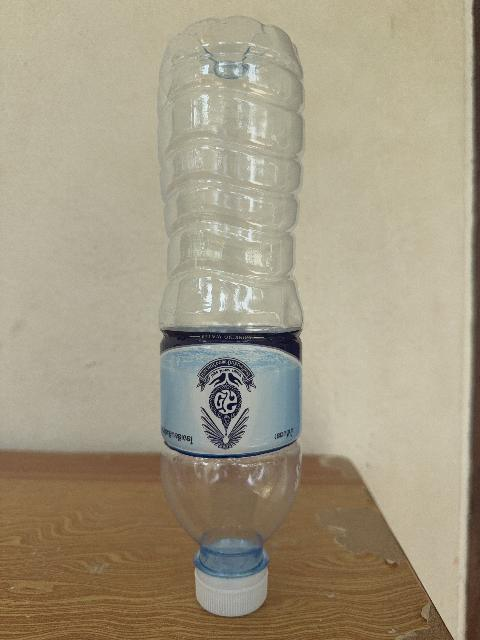bottle: (159, 17, 303, 615)
